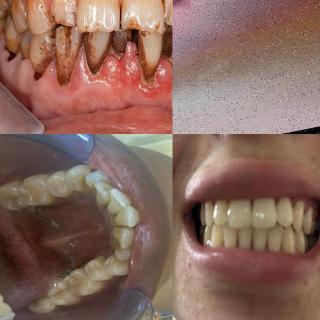Gum Swelling: (0, 37, 172, 110), (293, 197, 320, 216)
calculus: (136, 28, 159, 80), (109, 22, 133, 62), (162, 17, 172, 87), (74, 174, 90, 196), (84, 178, 100, 196), (60, 189, 78, 203), (109, 234, 122, 250), (91, 250, 105, 264), (108, 226, 124, 238), (96, 197, 110, 210), (104, 216, 120, 226), (103, 206, 115, 218)
maligned: (92, 178, 112, 204), (82, 170, 110, 187)
stains: (84, 29, 108, 79), (57, 27, 79, 79), (39, 30, 60, 70), (8, 26, 32, 59)
